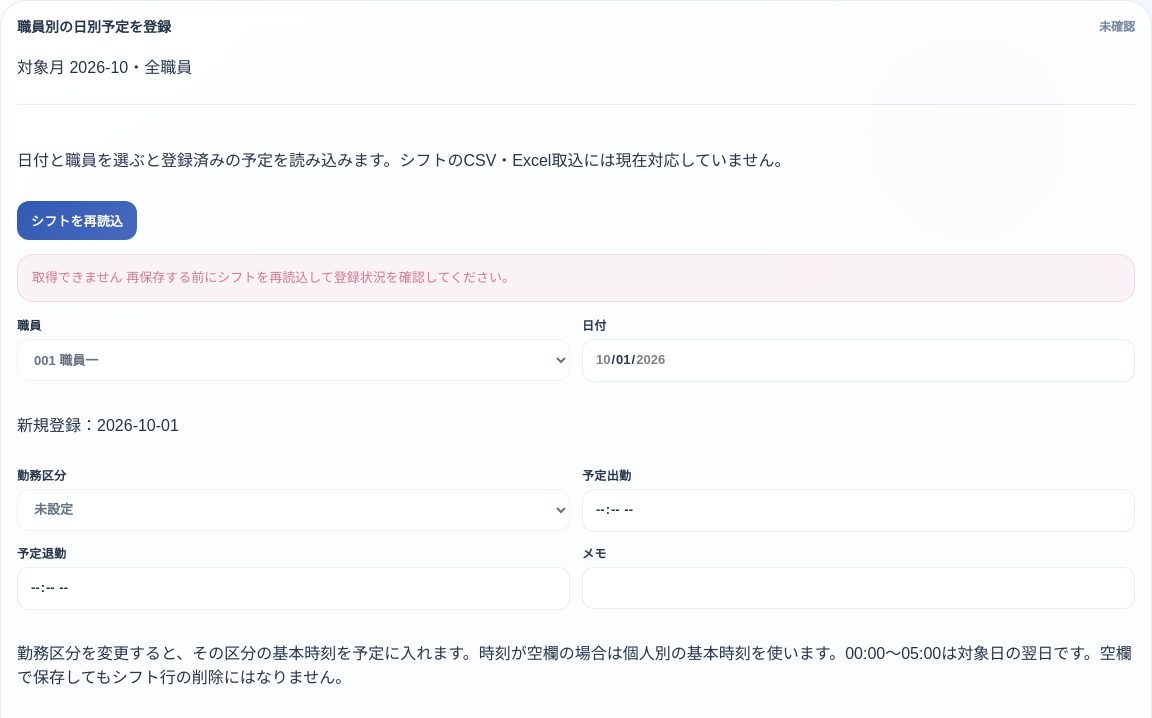
Test: attendance shift settings › blocks editing on a failed load and allows an explicit retry
Expected: the message shows "取得できません", [32,270,123,285]
Click the button "シフトを再読込".
click(77, 220)  # box [17,201,137,240]
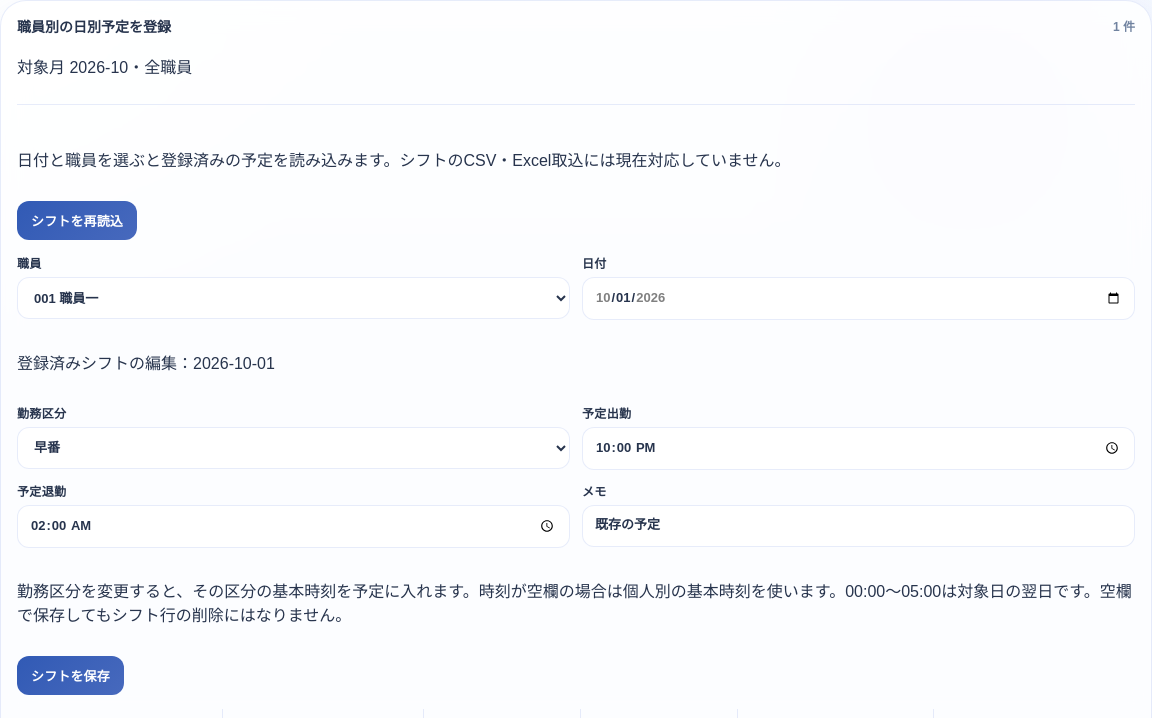
Expected: the time field labelled "予定出勤" holds "22:00", [582,427,1135,470]
Expected: the button "シフトを保存" is enabled, [17,656,124,694]
